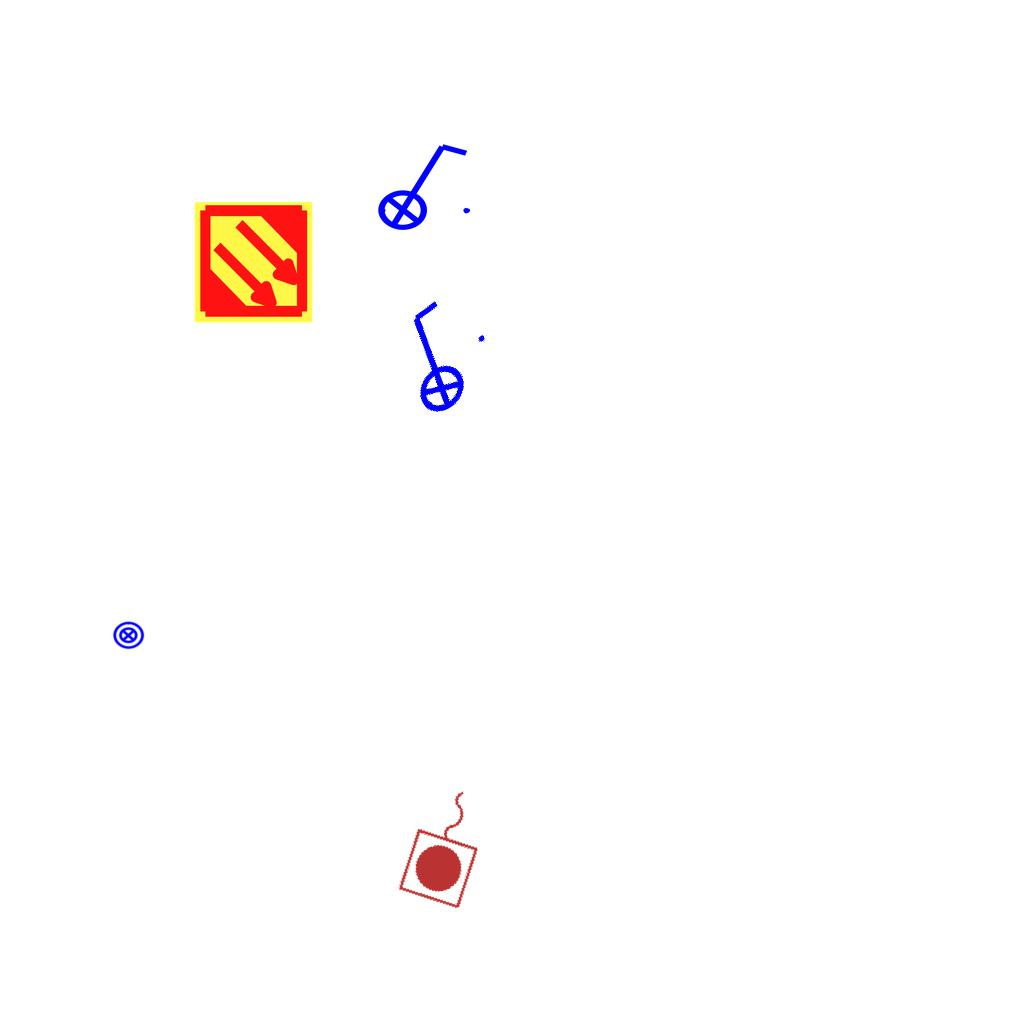ASR_Ansaugrauchmelder: (191, 200, 316, 325)
Ausschalter_beleuchtet: (359, 285, 505, 433), (364, 136, 476, 232)
Taster_beleuchtet: (112, 619, 145, 652)
Zugtaster: (393, 775, 501, 915)
